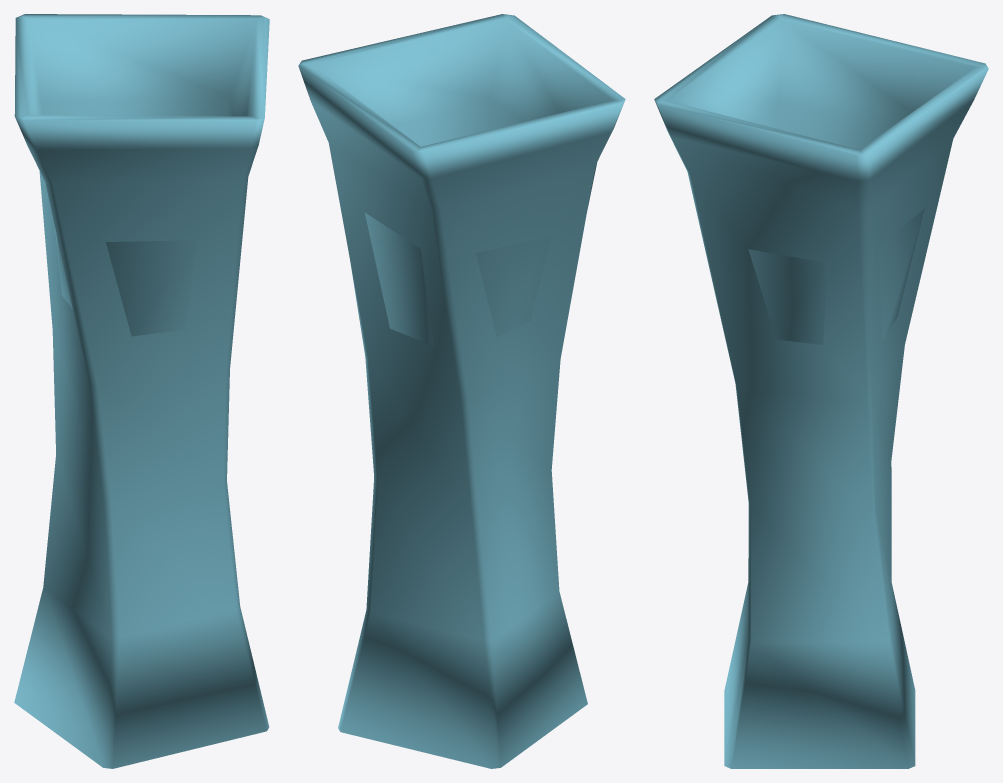
Rendered from flowervase_B_c02.fbx.
3 views of the same model, side by side, from view 1: azimuth 30°, elevation 25°; view 2: azimuth 150°, elevation 25°; view 3: azimuth 270°, elevation 25° (orthographic). The views are drawn at different scales.
Parts seen in each view (by area): view 1: vaseB_c2; view 2: vaseB_c2; view 3: vaseB_c2.
Part boxes in pixels (<box>): vaseB_c2: <box>14,14,269,768</box>; vaseB_c2: <box>298,14,625,768</box>; vaseB_c2: <box>654,14,988,768</box>.
Size of the model in its own units: 18.33 by 38.92 by 18.33.
